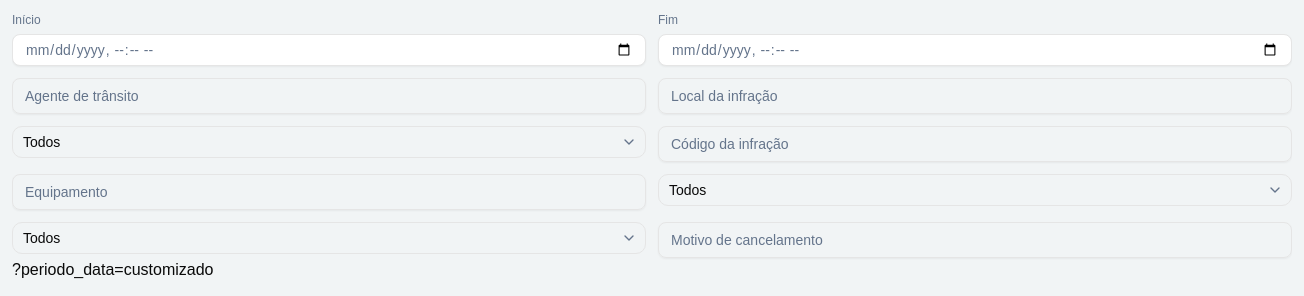
Test: FilterBar › shows and writes the custom date range fields when period is customizado
In the field labelled "Início": (329, 50) [12,34,646,66], type "2026-06-01T08:30"
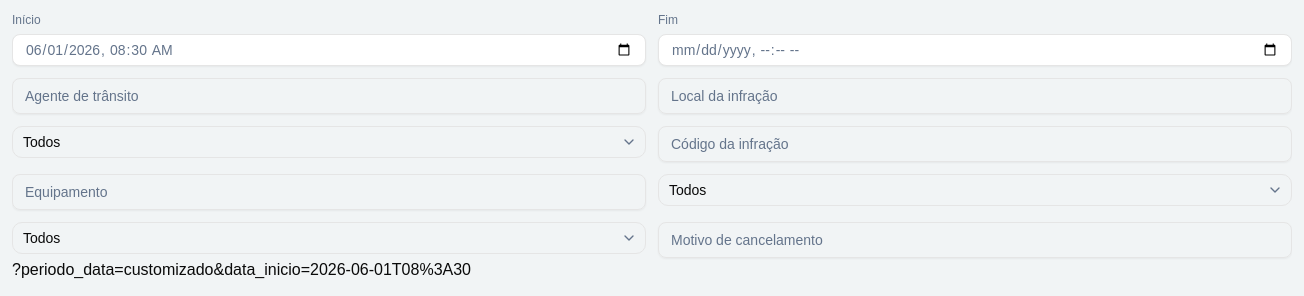
In the field labelled "Fim": (975, 50) [658,34,1292,66], type "2026-06-30T18:45"
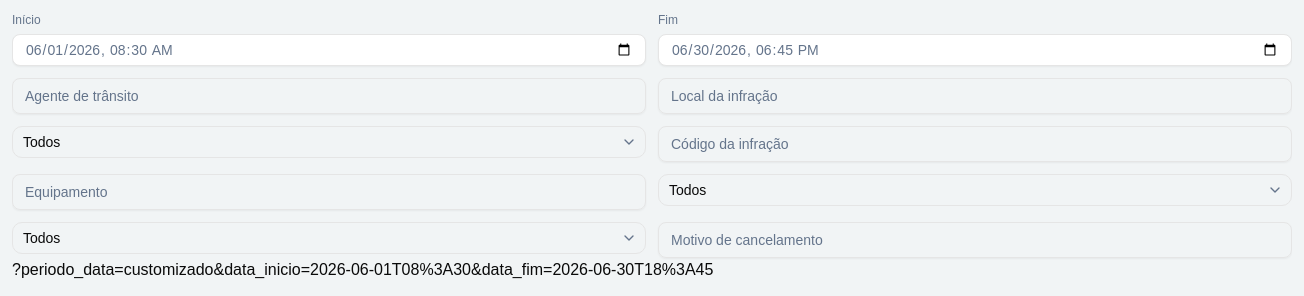
Result: the text named "Busca atual" shows "data_inicio=2026-06-01T08%3A30" at [12,261,713,278]
Result: the text named "Busca atual" shows "data_fim=2026-06-30T18%3A45" at [12,261,713,278]
